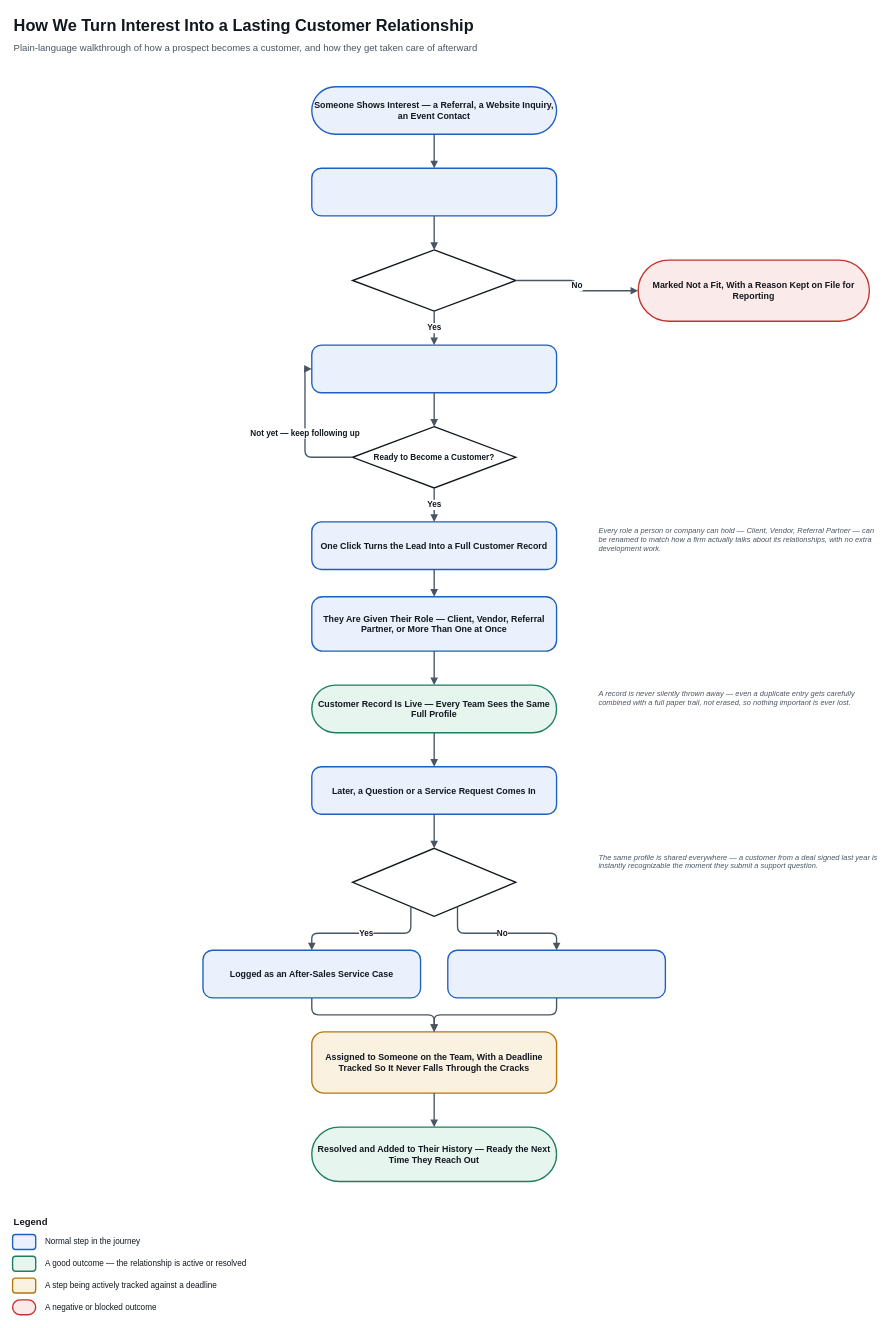
The diagram is 894 pixels wide and 1328 high, and some of its shapes have lost their labels. The shapes that lost their labels are listed below. From the top down, each one's centre as x and y in pixels, then its label:
At point (434, 191): "Logged as a Lead and Assigned to Someone to Follow Up".
At point (434, 280): "A Good Fit for Us?".
At point (434, 368): "Calls and Emails Confirm Their Interest and Budget".
At point (434, 882): "Tied to Something They Already Bought?".
At point (556, 973): "Logged as a Support (Helpdesk) Ticket".
